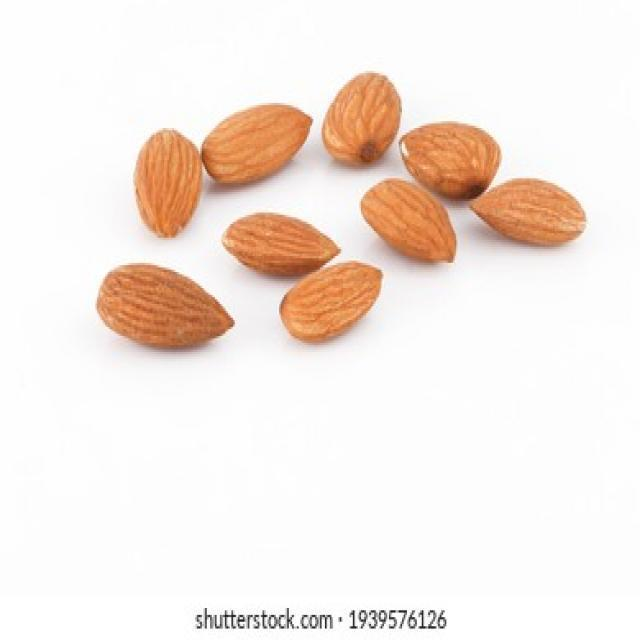almond: (94, 262, 236, 348), (202, 103, 313, 187), (398, 121, 503, 204), (280, 259, 382, 341), (362, 176, 459, 262), (467, 178, 589, 246), (131, 128, 201, 241), (320, 72, 403, 166), (221, 212, 343, 275)
